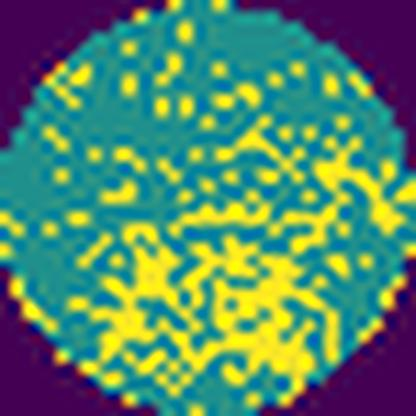Near-full: (0, 75, 416, 416)
